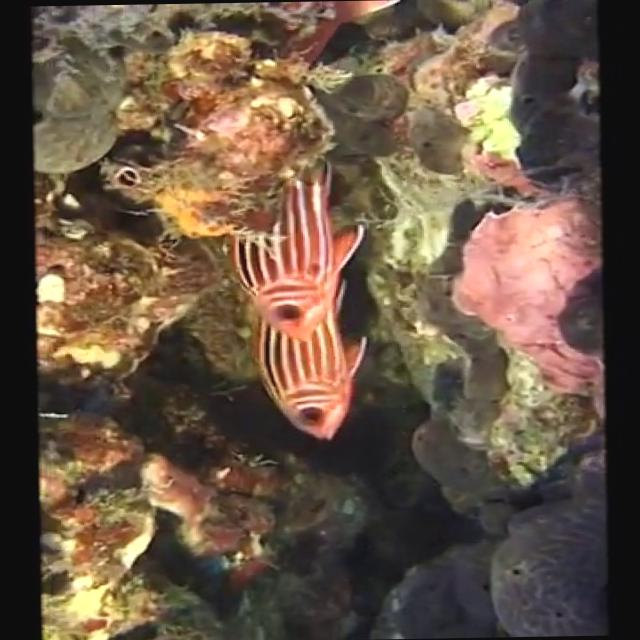Asker Baligi: (28, 0, 606, 640), (226, 160, 372, 442)
